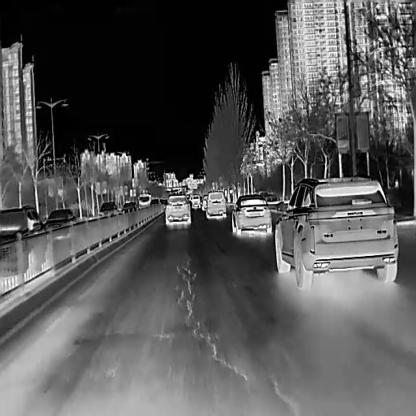car: (274, 175, 398, 289), (0, 204, 47, 276), (228, 193, 271, 234), (44, 208, 78, 236), (162, 192, 190, 224), (202, 189, 226, 217), (98, 200, 119, 218), (120, 200, 137, 217), (190, 193, 200, 208), (201, 194, 207, 210)
truck: (137, 191, 151, 210)
